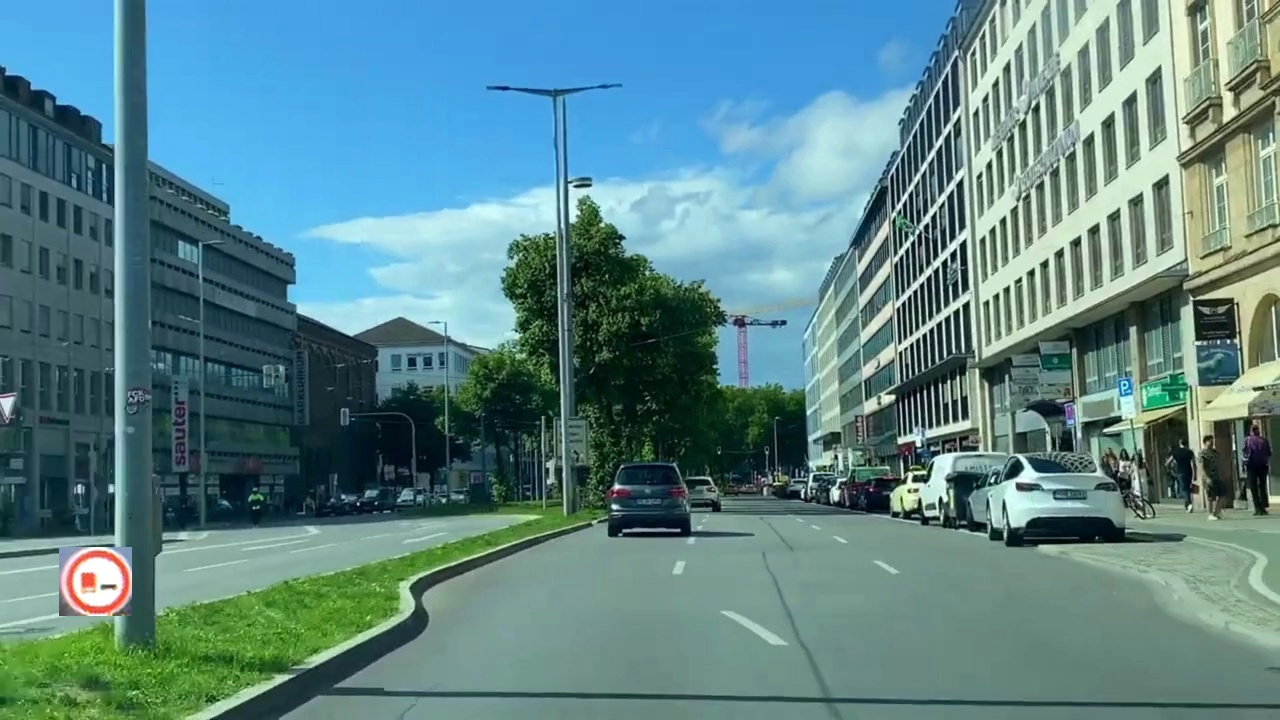No pass >3.5t: (59, 547, 132, 616)
